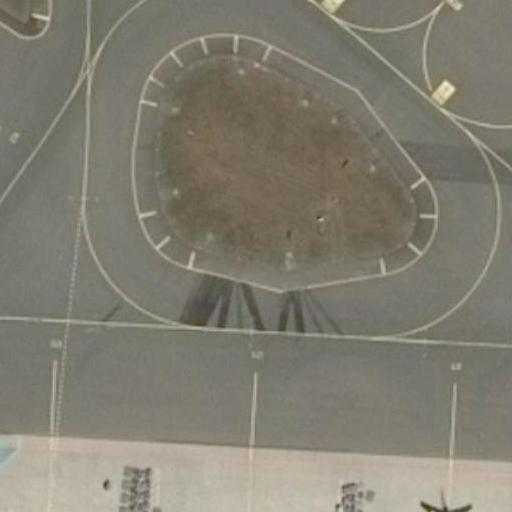Aircraft: (375, 502, 512, 512)
